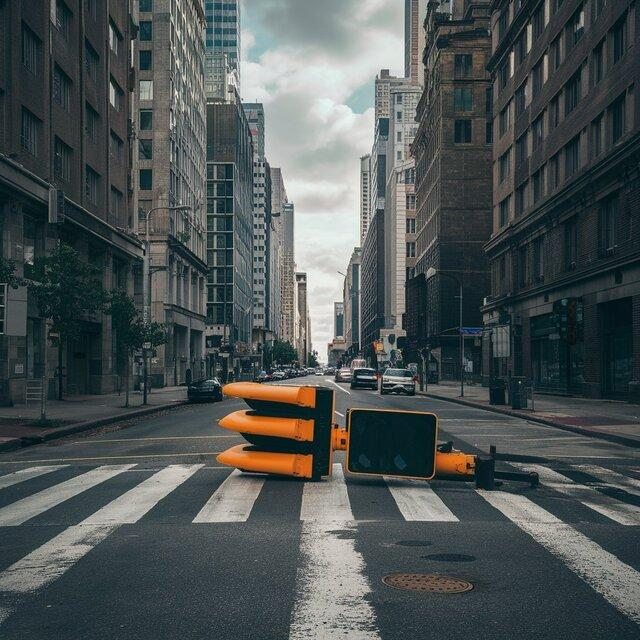Inclined Pole: (206, 376, 546, 492)
